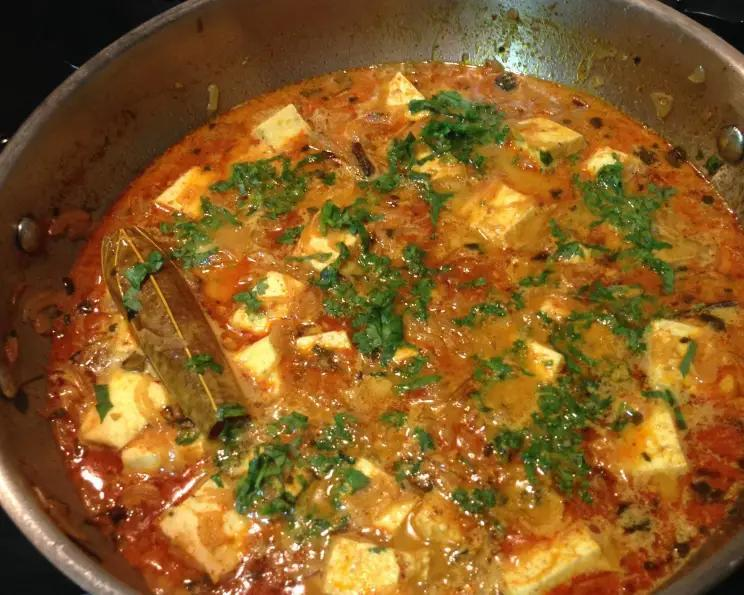paneer: (153, 165, 696, 452)
